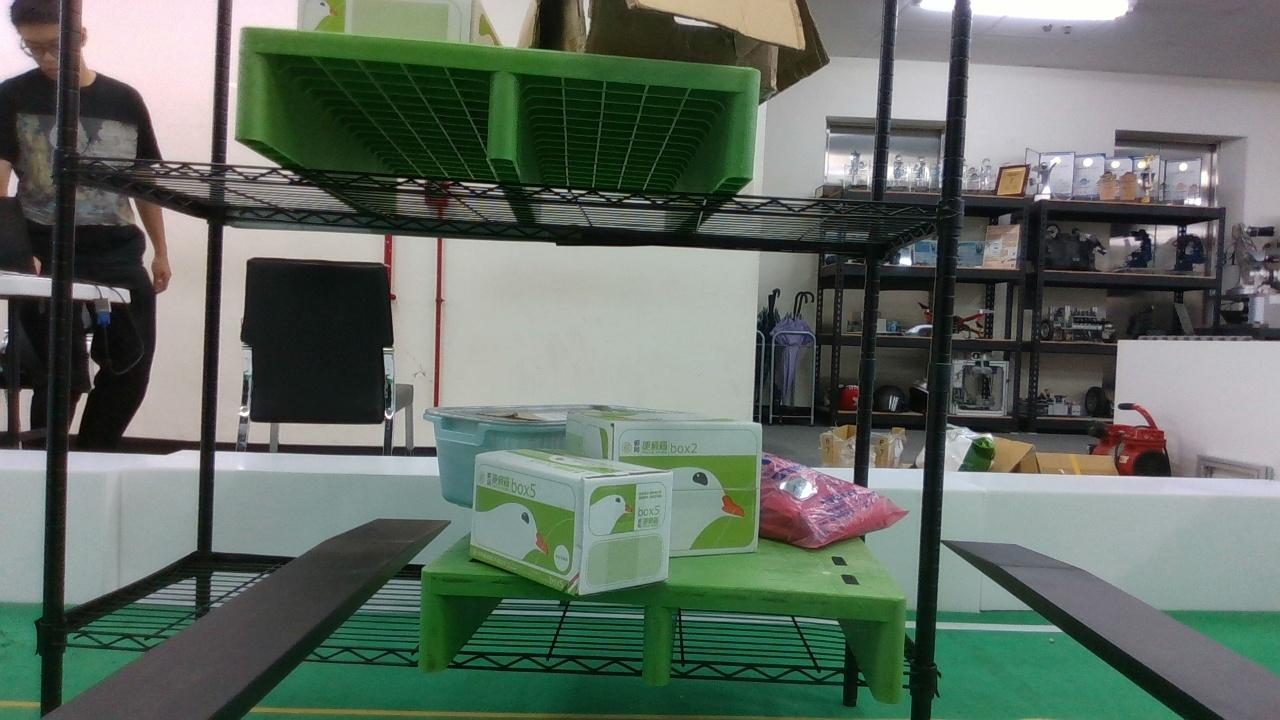Pallet: (233, 29, 766, 181), (417, 569, 909, 700)
